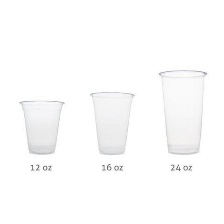glass: (153, 68, 212, 162), (85, 89, 137, 159), (13, 96, 71, 155)
